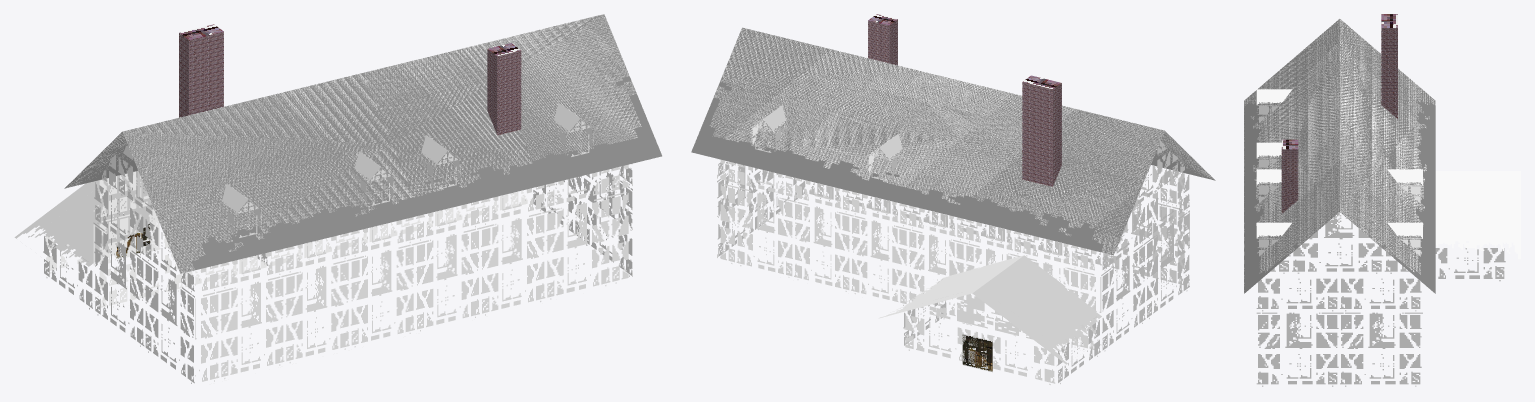
The model's file is uvmd-0184.glb.
3 renders of one model, left to right at view 1: azimuth 30°, elevation 25°; view 2: azimuth 150°, elevation 25°; view 3: azimuth 270°, elevation 25°, orthographic. The views are drawn at different scales.
Visible parts, largest first — view 1: uvmd-0184; view 2: uvmd-0184; view 3: uvmd-0184.
Boxes of the visible parts, x1,y1,x2,y2 form: uvmd-0184: (14,14,662,383); uvmd-0184: (691,14,1215,384); uvmd-0184: (1244,14,1520,386).
Size of the model in its own units: 440 by 240 by 266.
5 materials, 5 textured.
